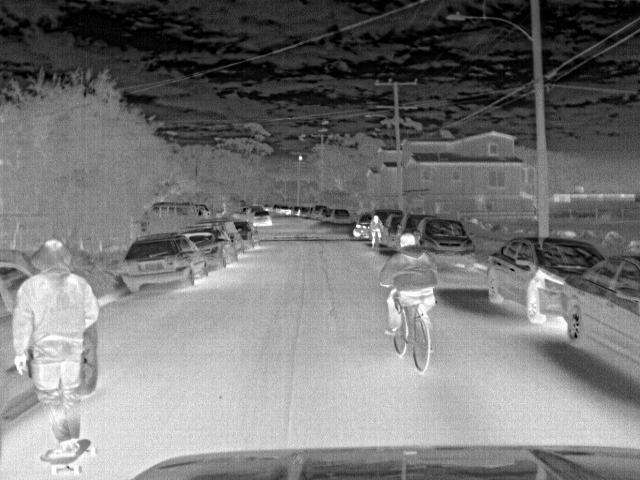car: (483, 238, 605, 320), (565, 254, 639, 374), (1, 259, 42, 435), (120, 234, 208, 296), (412, 216, 477, 271), (195, 227, 237, 263), (189, 230, 228, 267), (81, 329, 101, 394), (396, 213, 432, 248), (383, 214, 410, 248), (149, 200, 200, 216), (352, 213, 376, 235), (329, 208, 353, 226), (250, 209, 273, 225), (313, 204, 331, 220), (197, 204, 213, 222)
person: (9, 238, 100, 459), (386, 230, 440, 336)
